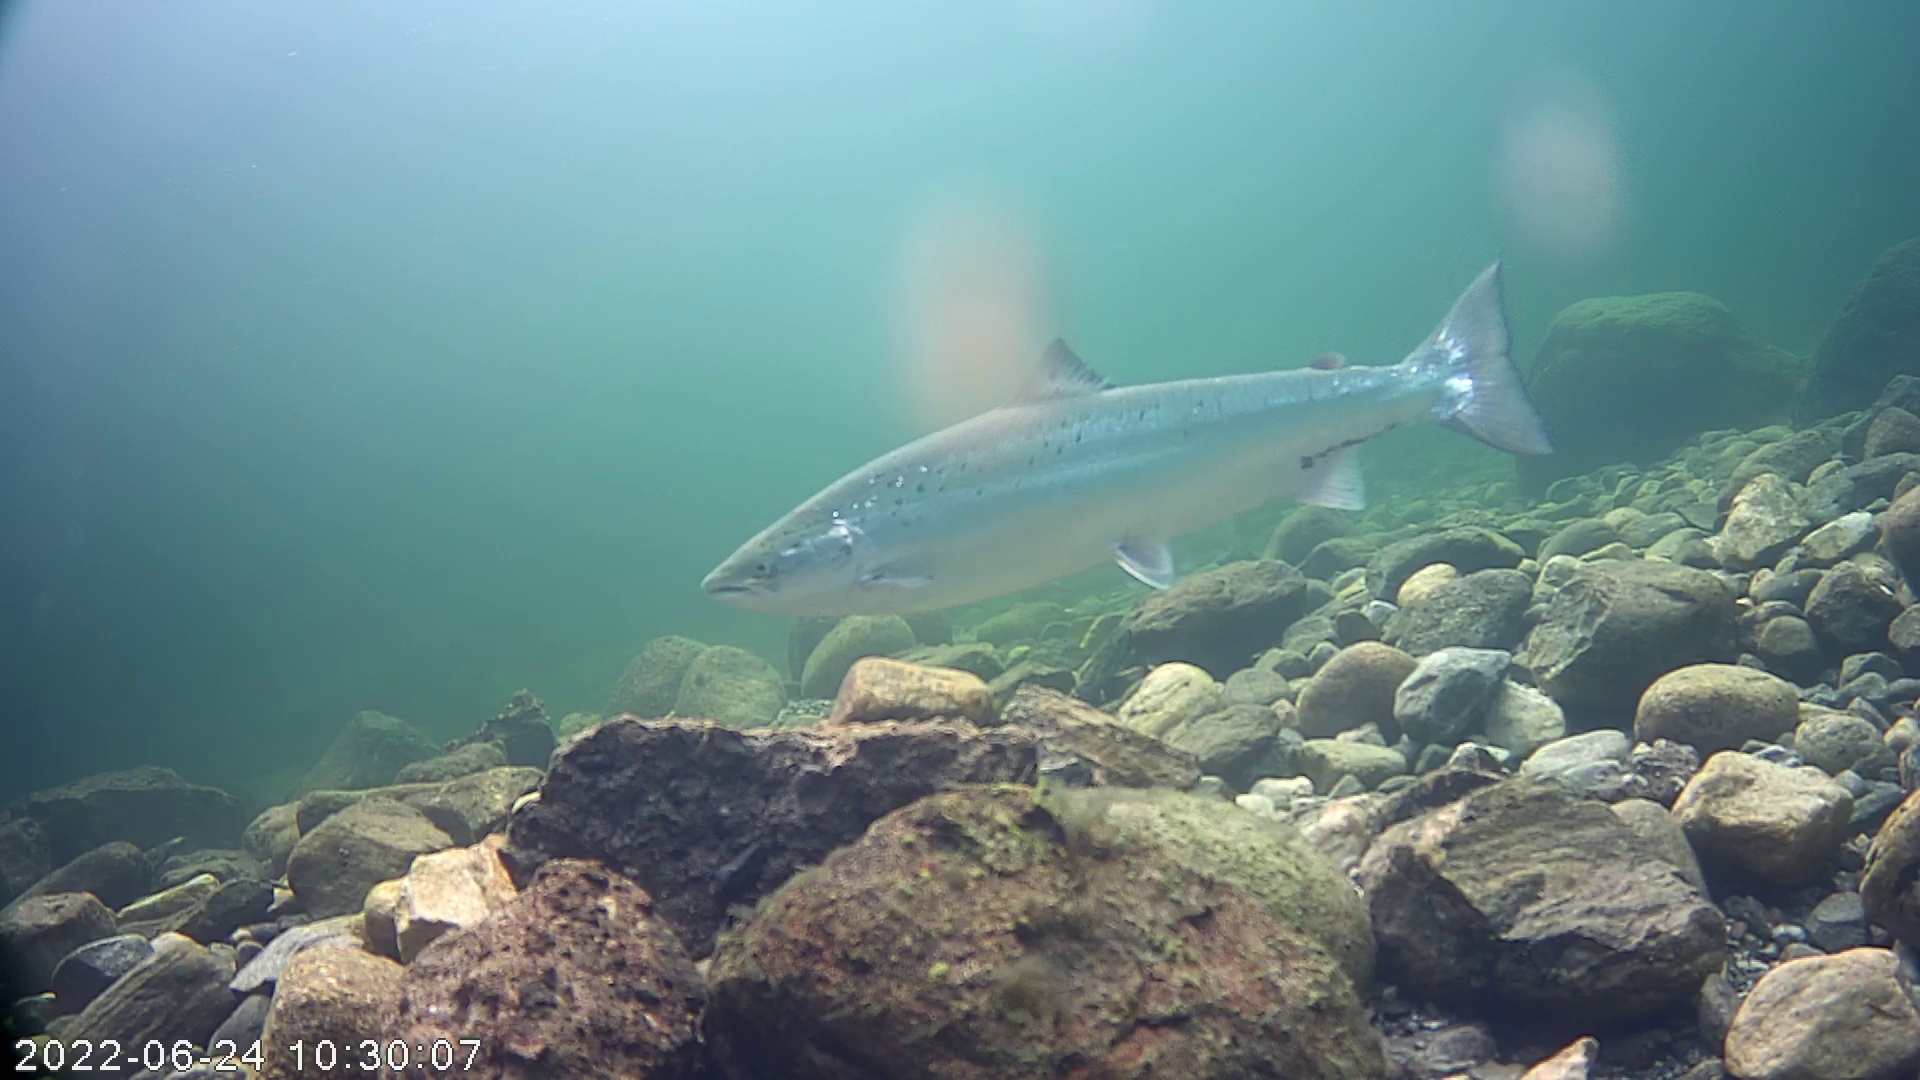salmon: (694, 257, 1552, 624)
